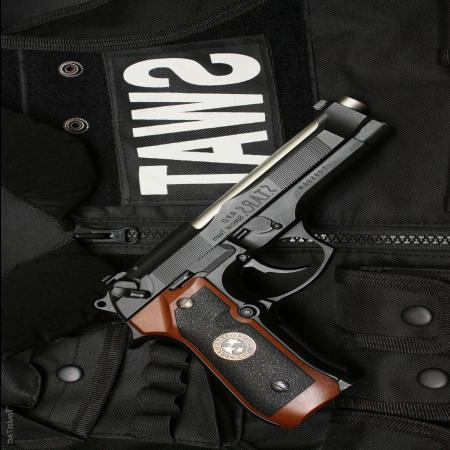Pistol: (87, 96, 403, 430)
